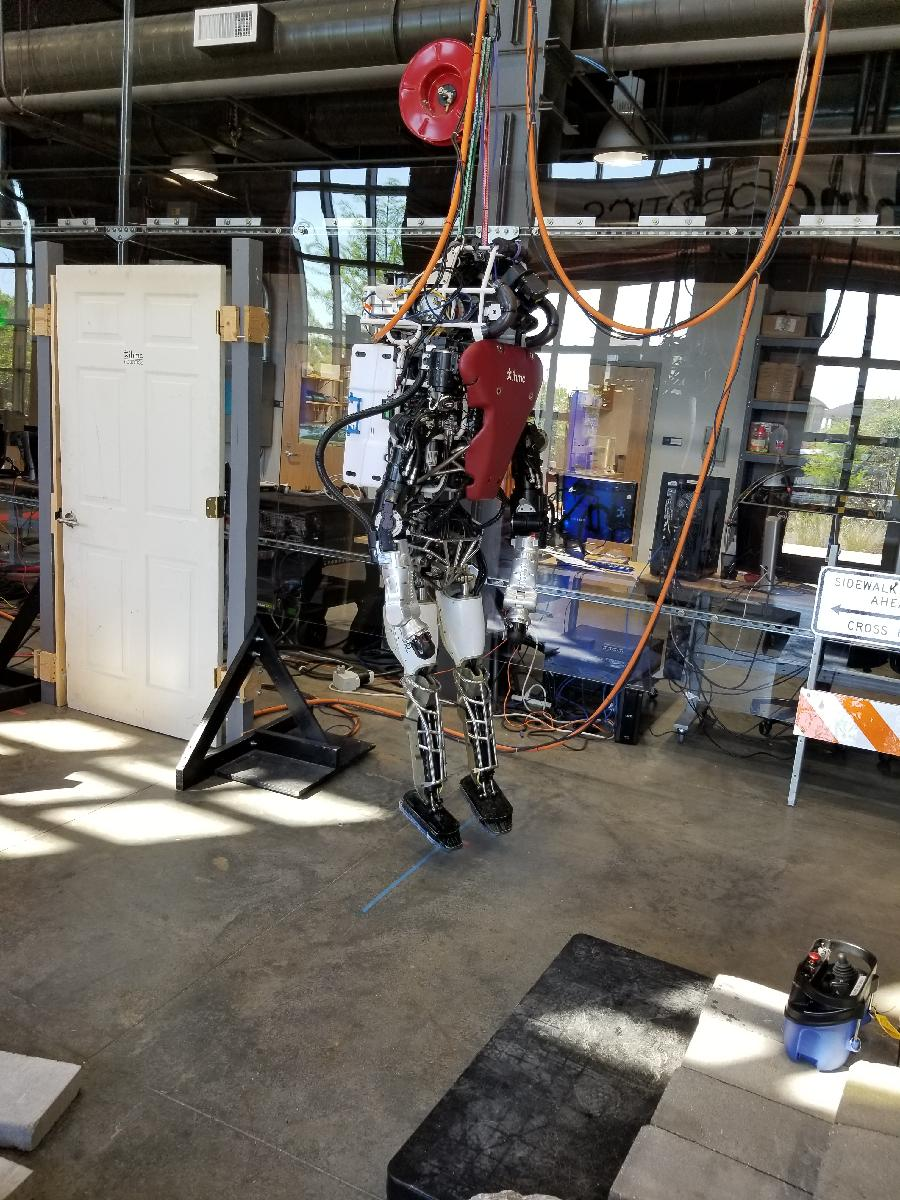door: (48, 256, 231, 751)
doorHandle: (59, 507, 85, 533)
